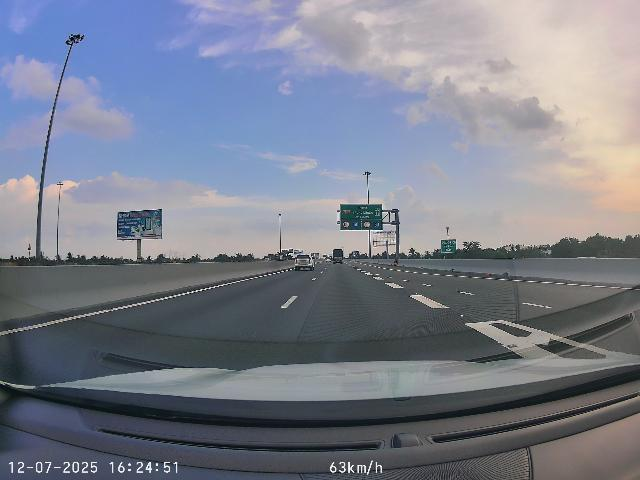127-toc-do-toi-da-100: (342, 221, 350, 229), (363, 221, 371, 229)
306-toc-do-toi-thieu-60: (373, 221, 381, 229), (352, 221, 359, 228)
437-bat-dau-duong-cao-toc: (374, 208, 380, 216)
